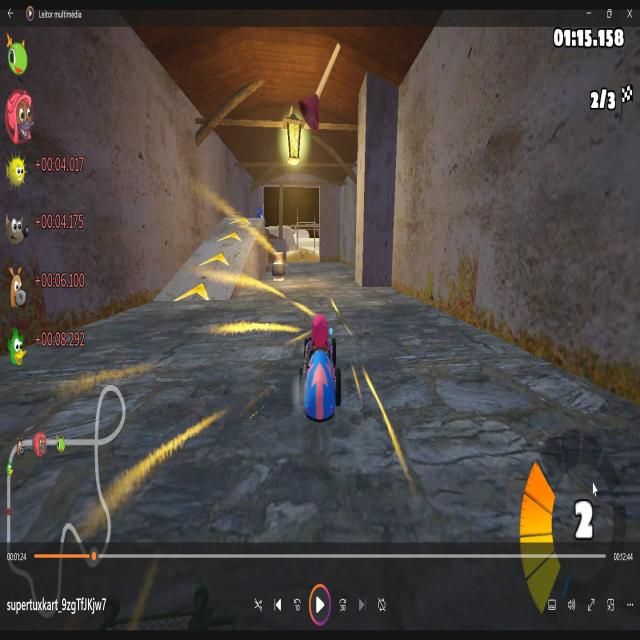player_kart: (303, 312, 342, 424)
power_up: (178, 280, 210, 311), (202, 252, 234, 273), (220, 228, 243, 249), (230, 208, 254, 224)
track: (3, 429, 640, 546), (142, 312, 299, 428), (342, 315, 498, 426), (35, 333, 144, 427), (290, 249, 319, 299), (323, 266, 354, 304), (264, 283, 293, 313)
